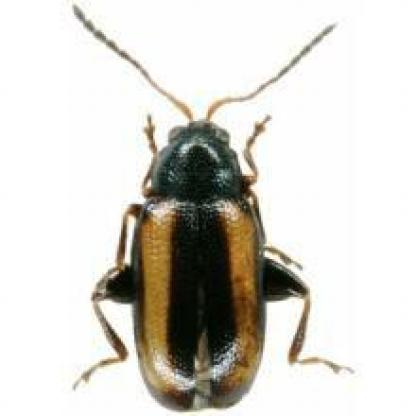beetle: (57, 0, 365, 405)
